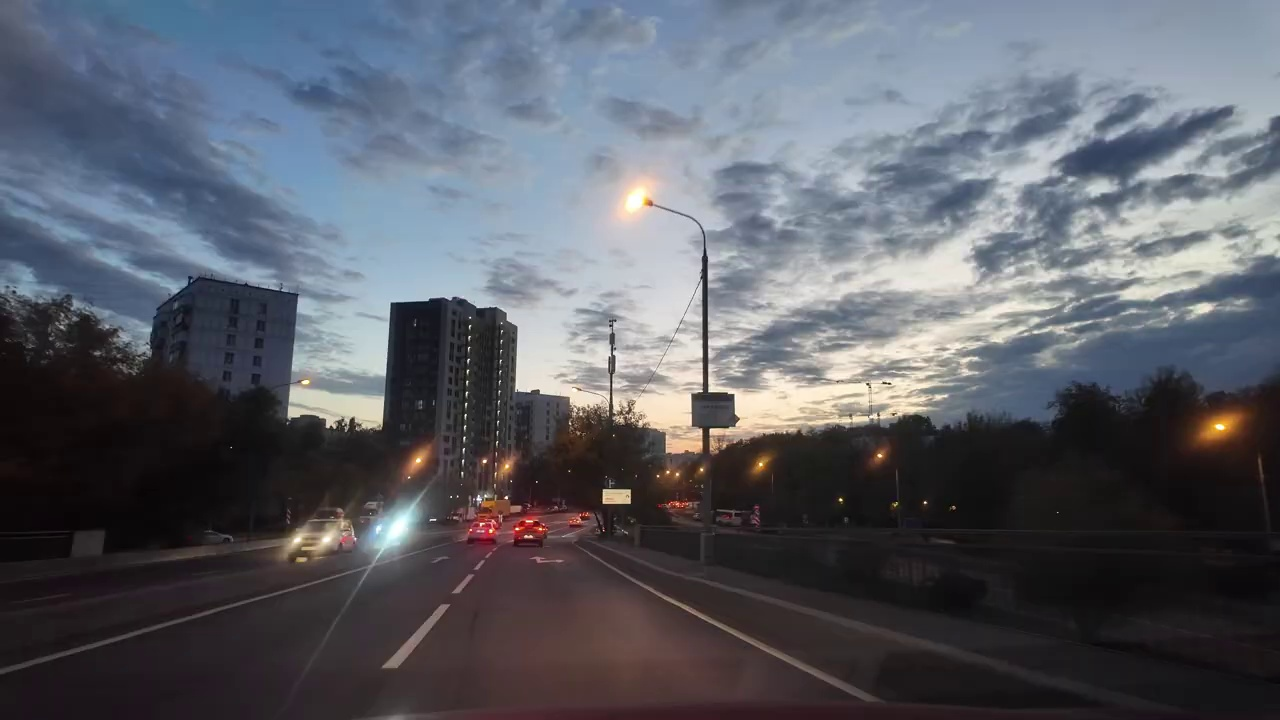acesa: (597, 179, 652, 231), (615, 180, 658, 220)
